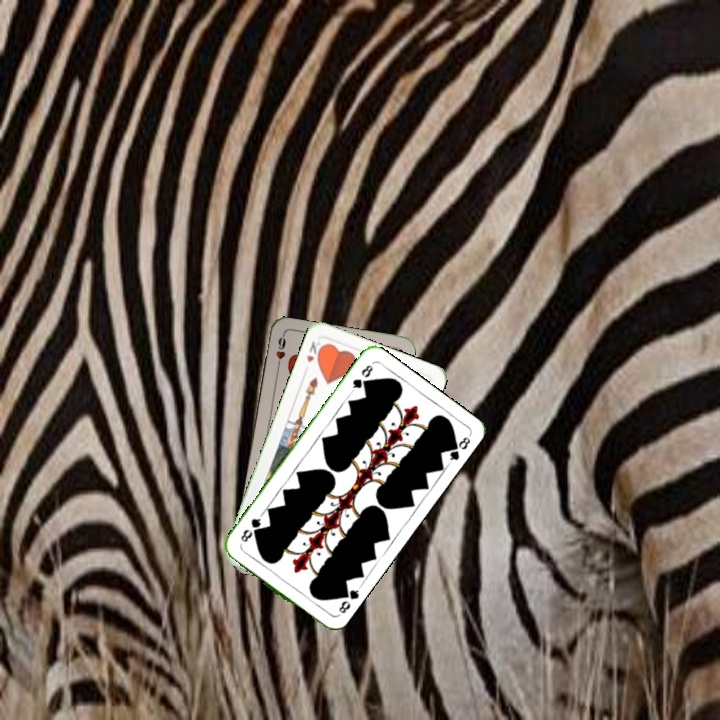G8: (333, 584, 362, 619), (347, 361, 375, 395)
H9: (272, 331, 288, 372)
HK: (302, 337, 326, 365)
